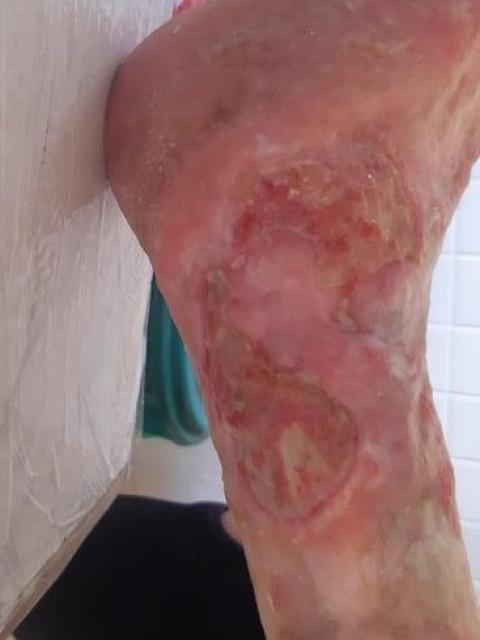wound: (221, 132, 447, 379), (190, 263, 378, 526), (377, 381, 461, 601), (265, 576, 291, 618)
